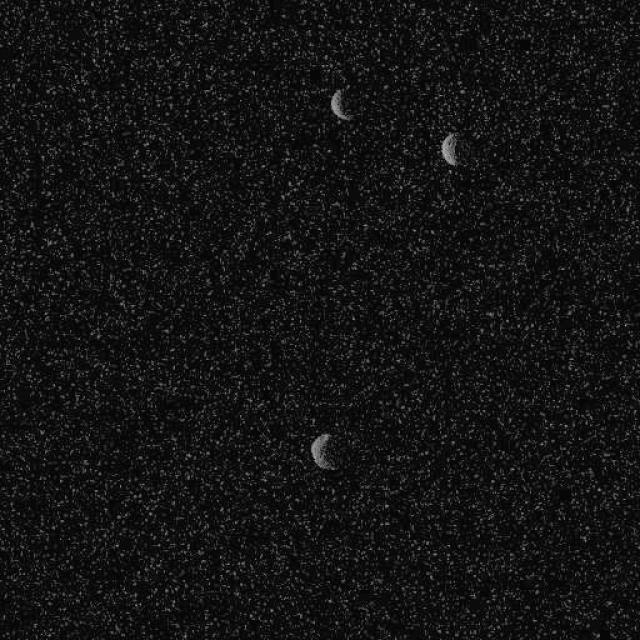D2: (308, 431, 338, 471), (328, 86, 352, 122), (440, 132, 459, 166)
